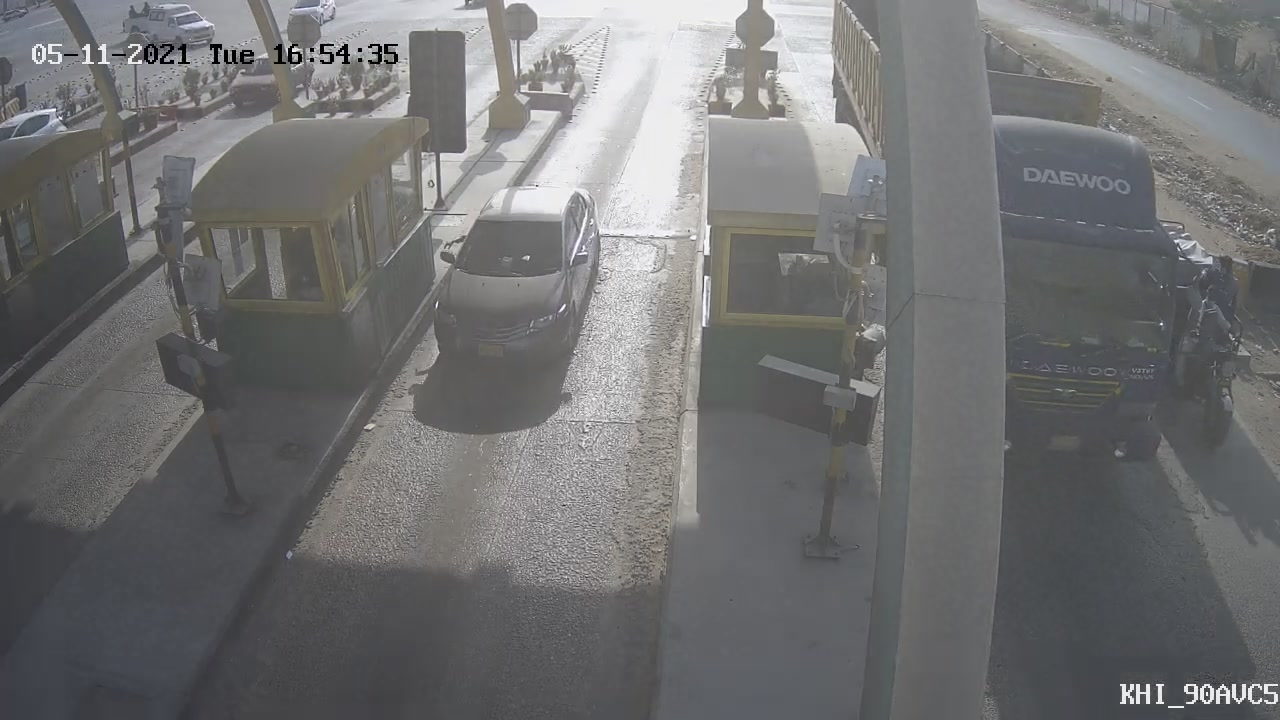F1: (407, 168, 617, 386)
